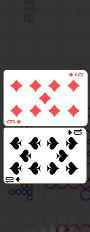10C: (67, 128, 84, 136)
9D: (68, 71, 85, 78)
